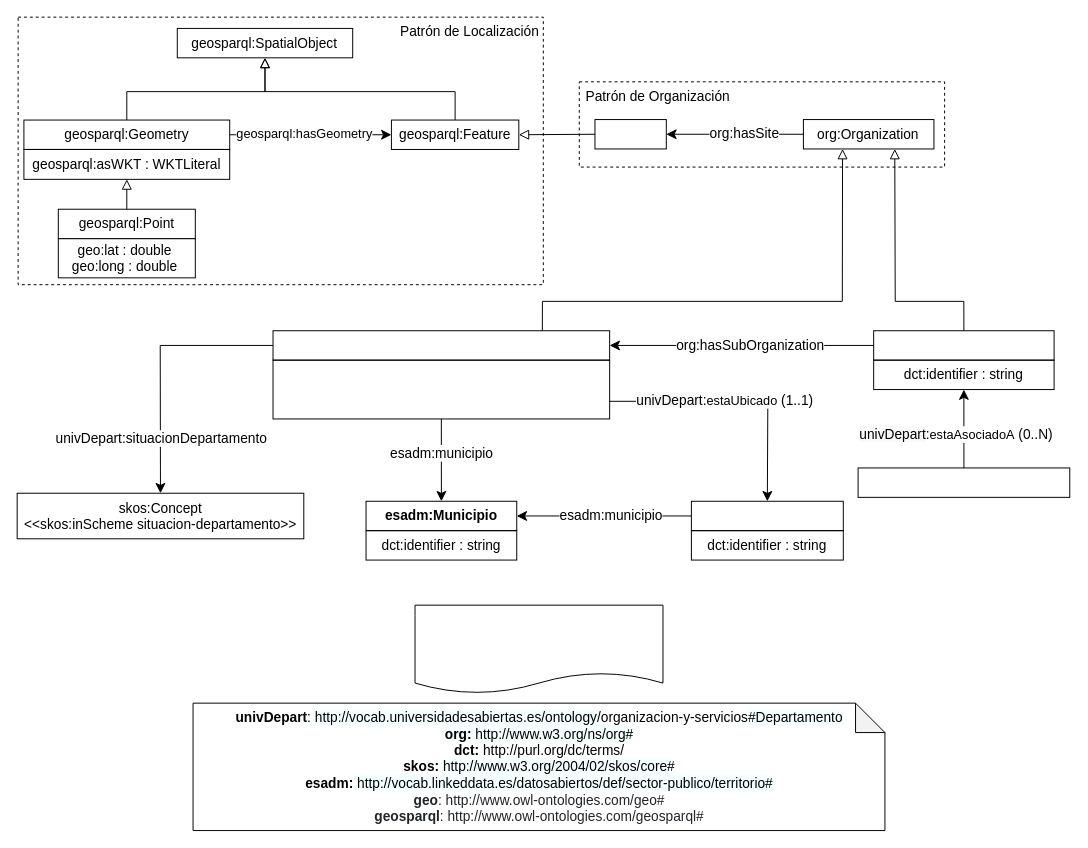
Some shapes in this 1088 by 848 pixel diagram are drawn without their labels. Each missing label, with the centre of its shape:
dc:creator: Víctor Morcuende owl:versionInfo: 0.0.2 dc:title: Template Ontology: [538,648]
dct:identifier : string univDepart:fechaDesdeSituacionDepartamento : date: [441,389]
org:Site: [630,134]
univDepart :CursoAcademico: [963,482]
univDepart :Universidad: [963,345]
univDepart:Campus: [766,515]
univDepart:Departamento: [441,345]
